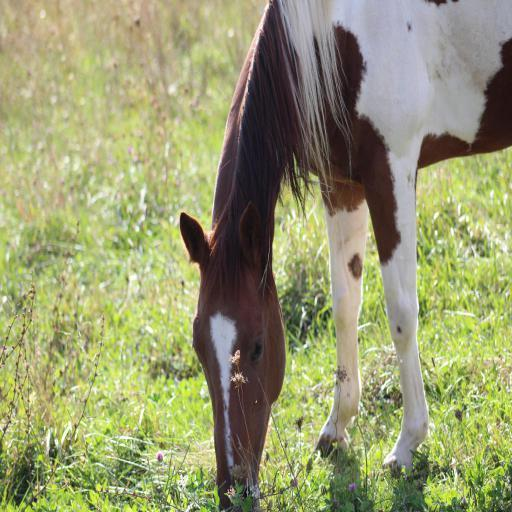horse: (179, 0, 511, 511)
